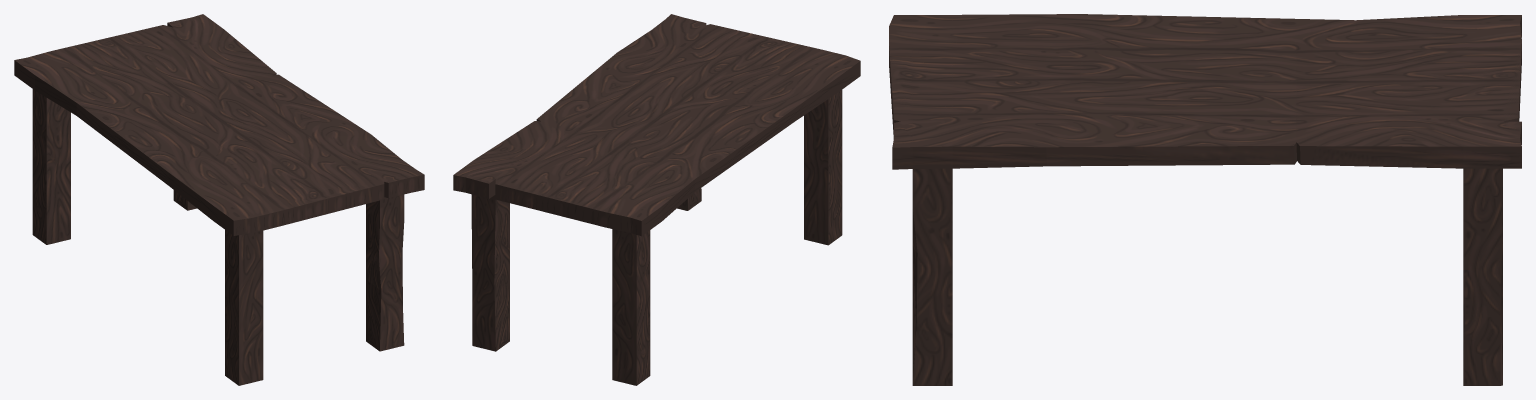
File: table.obj
3 views of the same model, side by side, from view 1: azimuth 30°, elevation 25°; view 2: azimuth 150°, elevation 25°; view 3: azimuth 270°, elevation 25° (orthographic). The views are drawn at different scales.
Parts seen in each view (by area): view 1: table_Cube.042; view 2: table_Cube.042; view 3: table_Cube.042.
Part boxes in pixels (x1,y1,x2,y2): table_Cube.042: (14,14,424,385); table_Cube.042: (453,14,860,385); table_Cube.042: (889,14,1521,385).
Bounding box in the file's own units: 0.8029 × 0.6979 × 1.61.
1 material, 1 textured.
